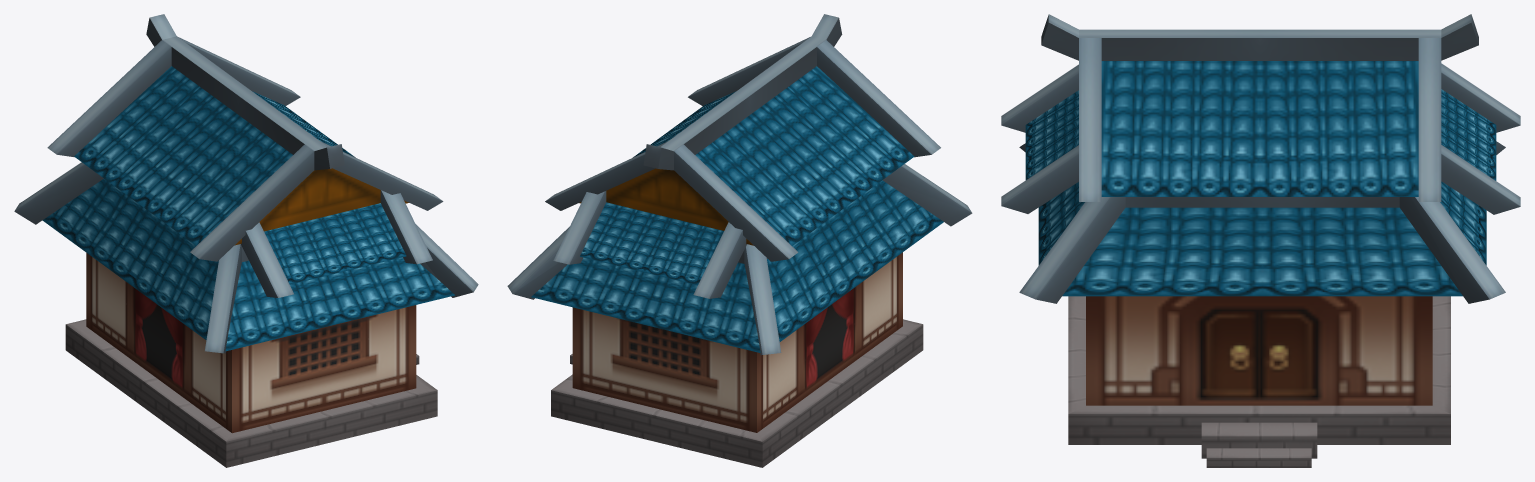
File: QSMY_City_MinFang02.FBX
The picture shows the model from 3 angles, left to right: view 1: azimuth 30°, elevation 25°; view 2: azimuth 150°, elevation 25°; view 3: azimuth 270°, elevation 25°; orthographic projection. The views are drawn at different scales.
Visible parts, largest first — view 1: Object116; view 2: Object116; view 3: Object116.
Boxes of the visible parts, left/top/right/bottom form: Object116: left=14, top=14, right=478, bottom=467; Object116: left=507, top=14, right=972, bottom=467; Object116: left=1001, top=14, right=1520, bottom=467.
Size of the model in its own units: 11.06 by 11.22 by 14.6.
